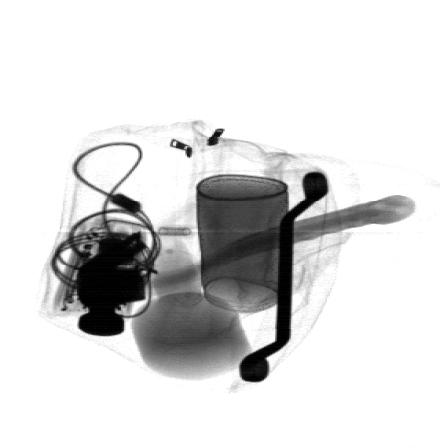Hammer: (77, 194, 418, 335)
Wrench: (238, 172, 329, 382)
